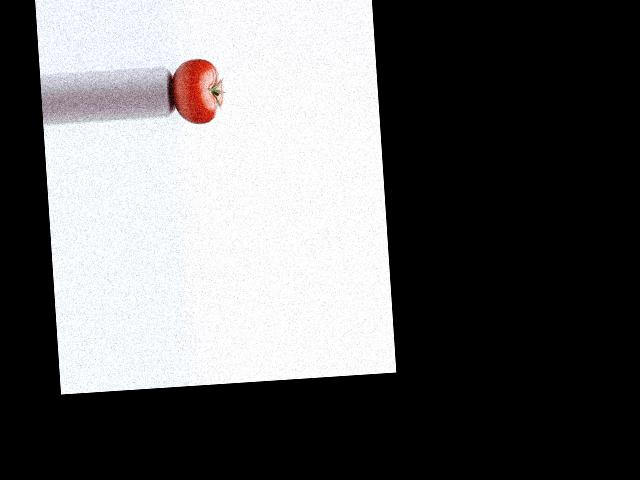tomato: (170, 57, 224, 125)
